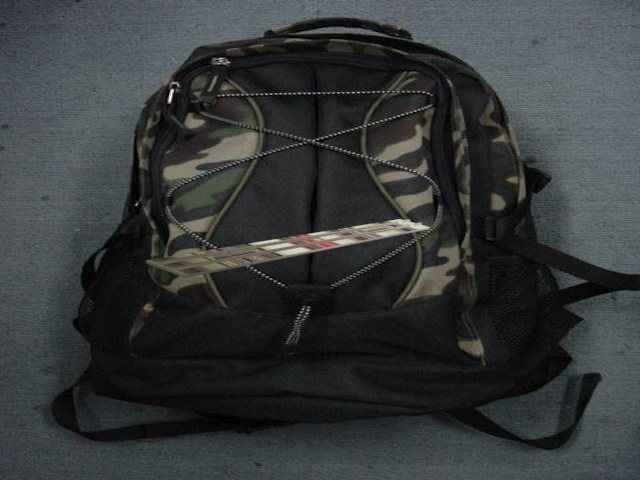ruler: (144, 209, 432, 288)
